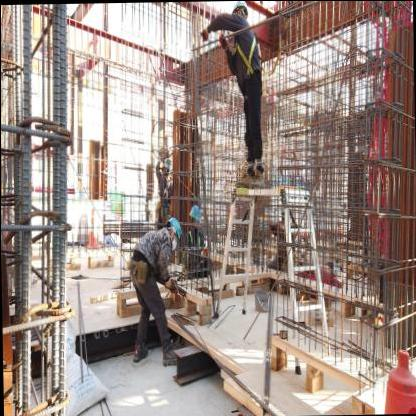safety-shoe: (127, 339, 152, 366), (160, 345, 182, 371), (248, 166, 265, 195), (237, 167, 254, 188)
